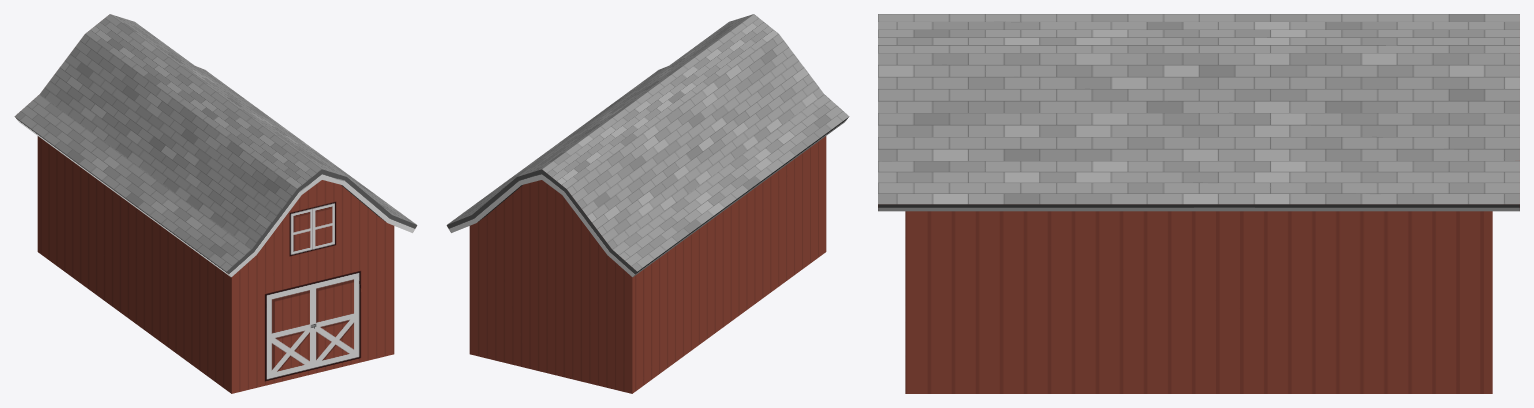
Rendered from barn.glb.
The picture shows the model from 3 angles, left to right: view 1: azimuth 30°, elevation 25°; view 2: azimuth 150°, elevation 25°; view 3: azimuth 270°, elevation 25°; orthographic projection. The views are drawn at different scales.
Visible parts, largest first — view 1: barn_0; view 2: barn_0; view 3: barn_0.
Boxes of the visible parts, box(x1,y1,x2,y2) form: barn_0: box(14, 14, 417, 393); barn_0: box(446, 14, 849, 393); barn_0: box(878, 14, 1519, 393).
Size of the model in its own units: 10.34 by 10.95 by 19.92.
Materials: 1 (1 with a texture image).
